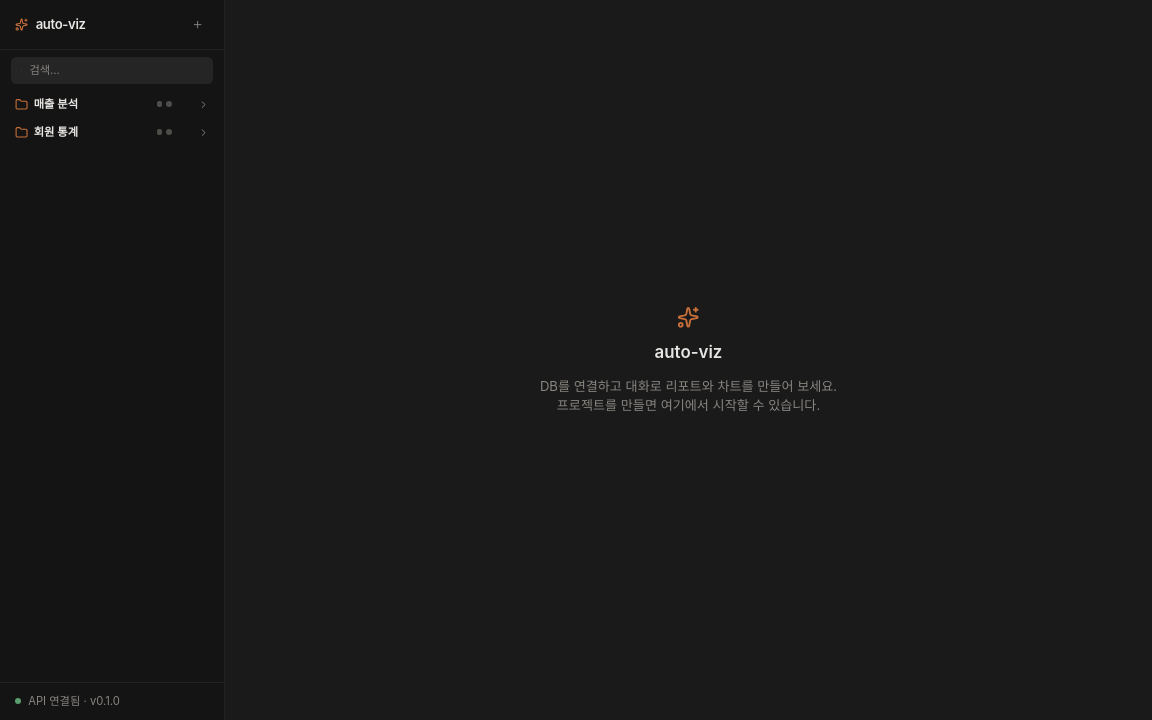
Test: 사이드바 프로젝트 목록 › 검색어로 프로젝트를 거른다
The width and height of the screenshot is (1152, 720).
Expected: the text "매출 분석" is shown, [34, 97, 78, 111]
Type "회원" into the search field named "프로젝트 검색" at (116, 70), box [29, 63, 203, 78]
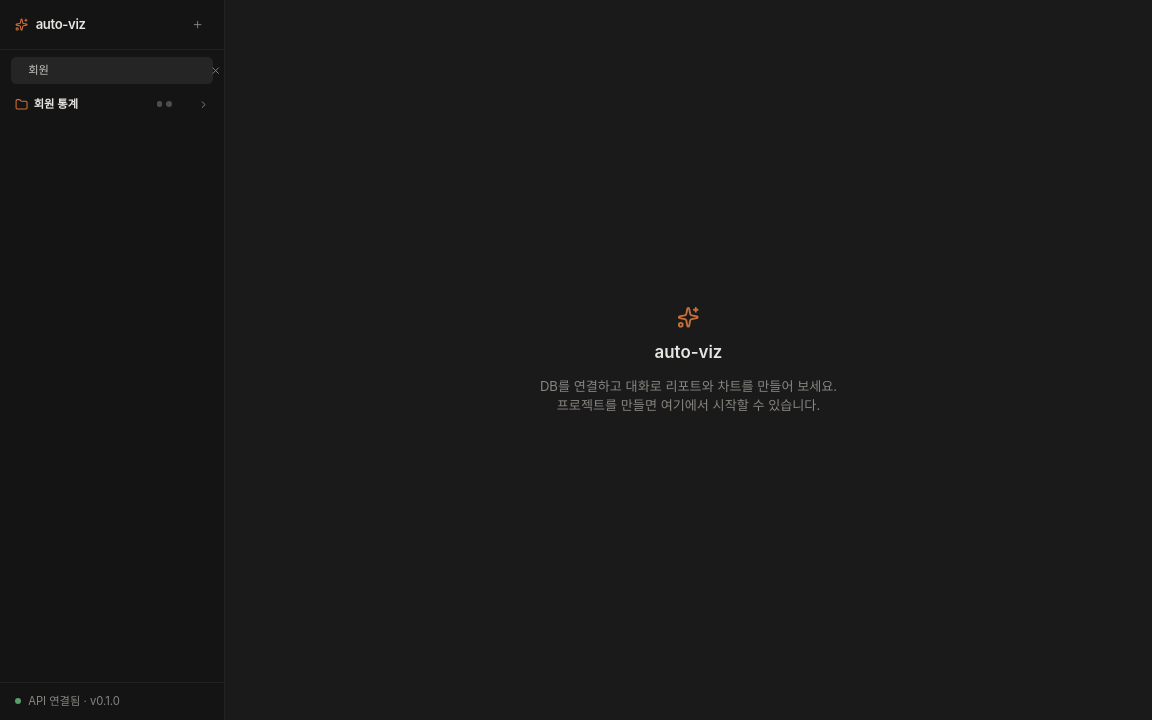
Expected: the text "회원 통계" is shown, [34, 97, 78, 111]
Expected: the button "매출 분석" is gone
Clear the search field named "프로젝트 검색" at (115, 70), box [28, 63, 202, 78]
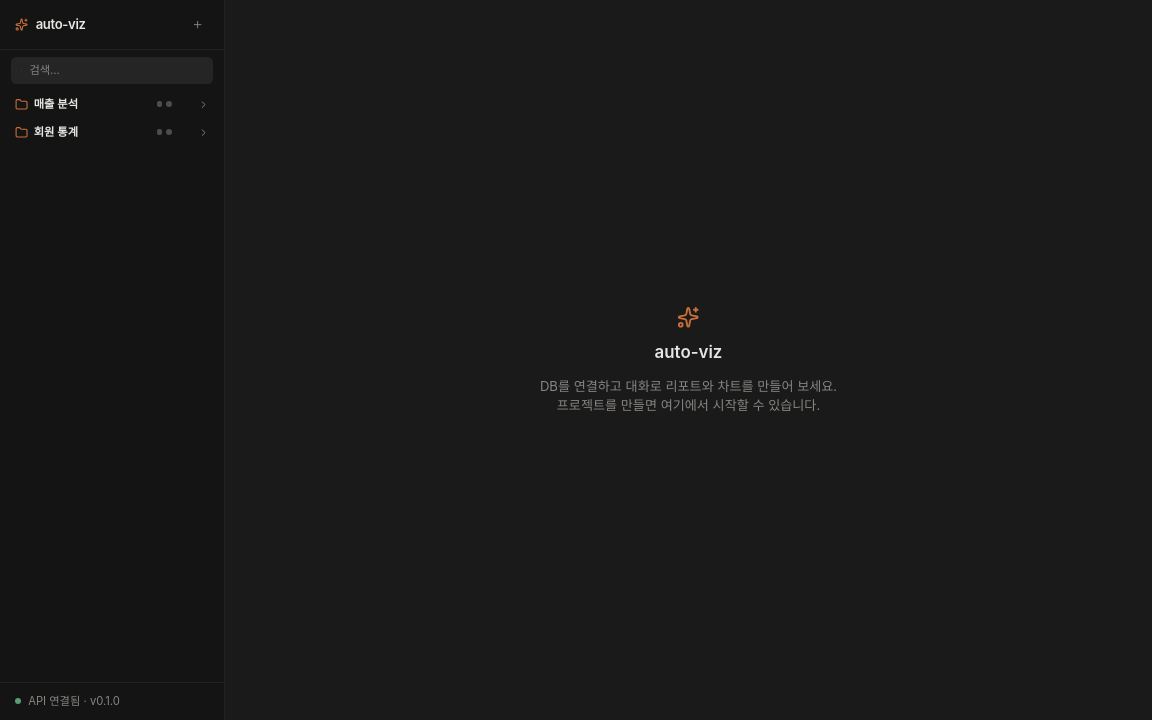
Type "없는이름" into the search field named "프로젝트 검색" at (116, 70), box [29, 63, 203, 78]
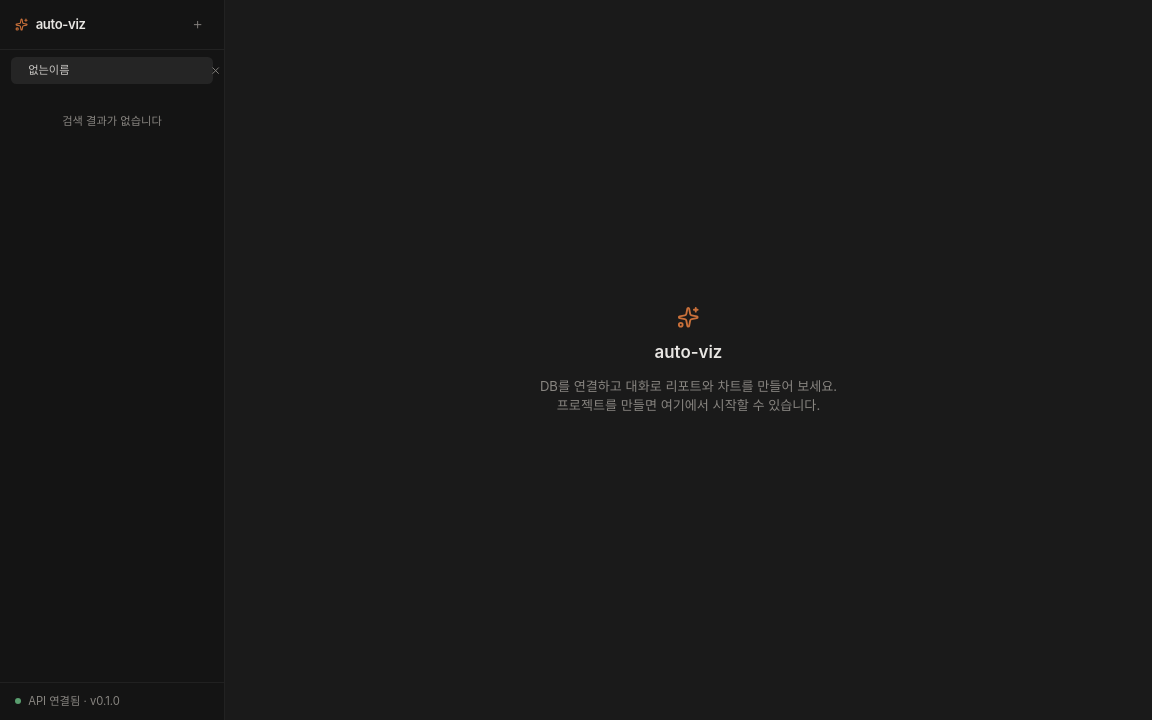
Expected: the text "검색 결과가 없습니다" is shown, [62, 114, 162, 128]
